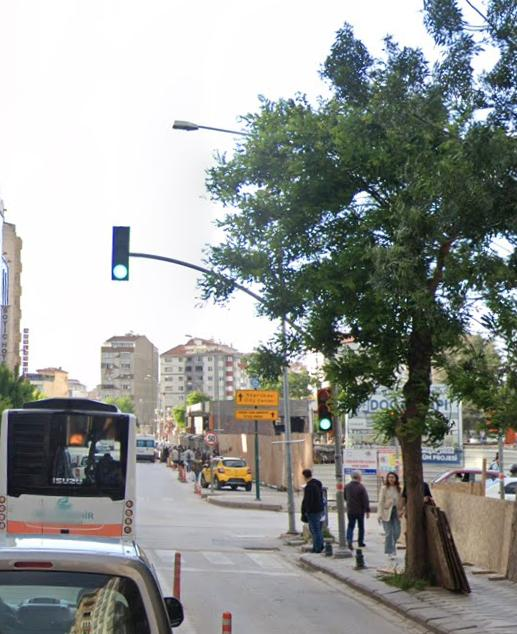greenlight: (111, 228, 138, 285), (319, 386, 335, 433)
